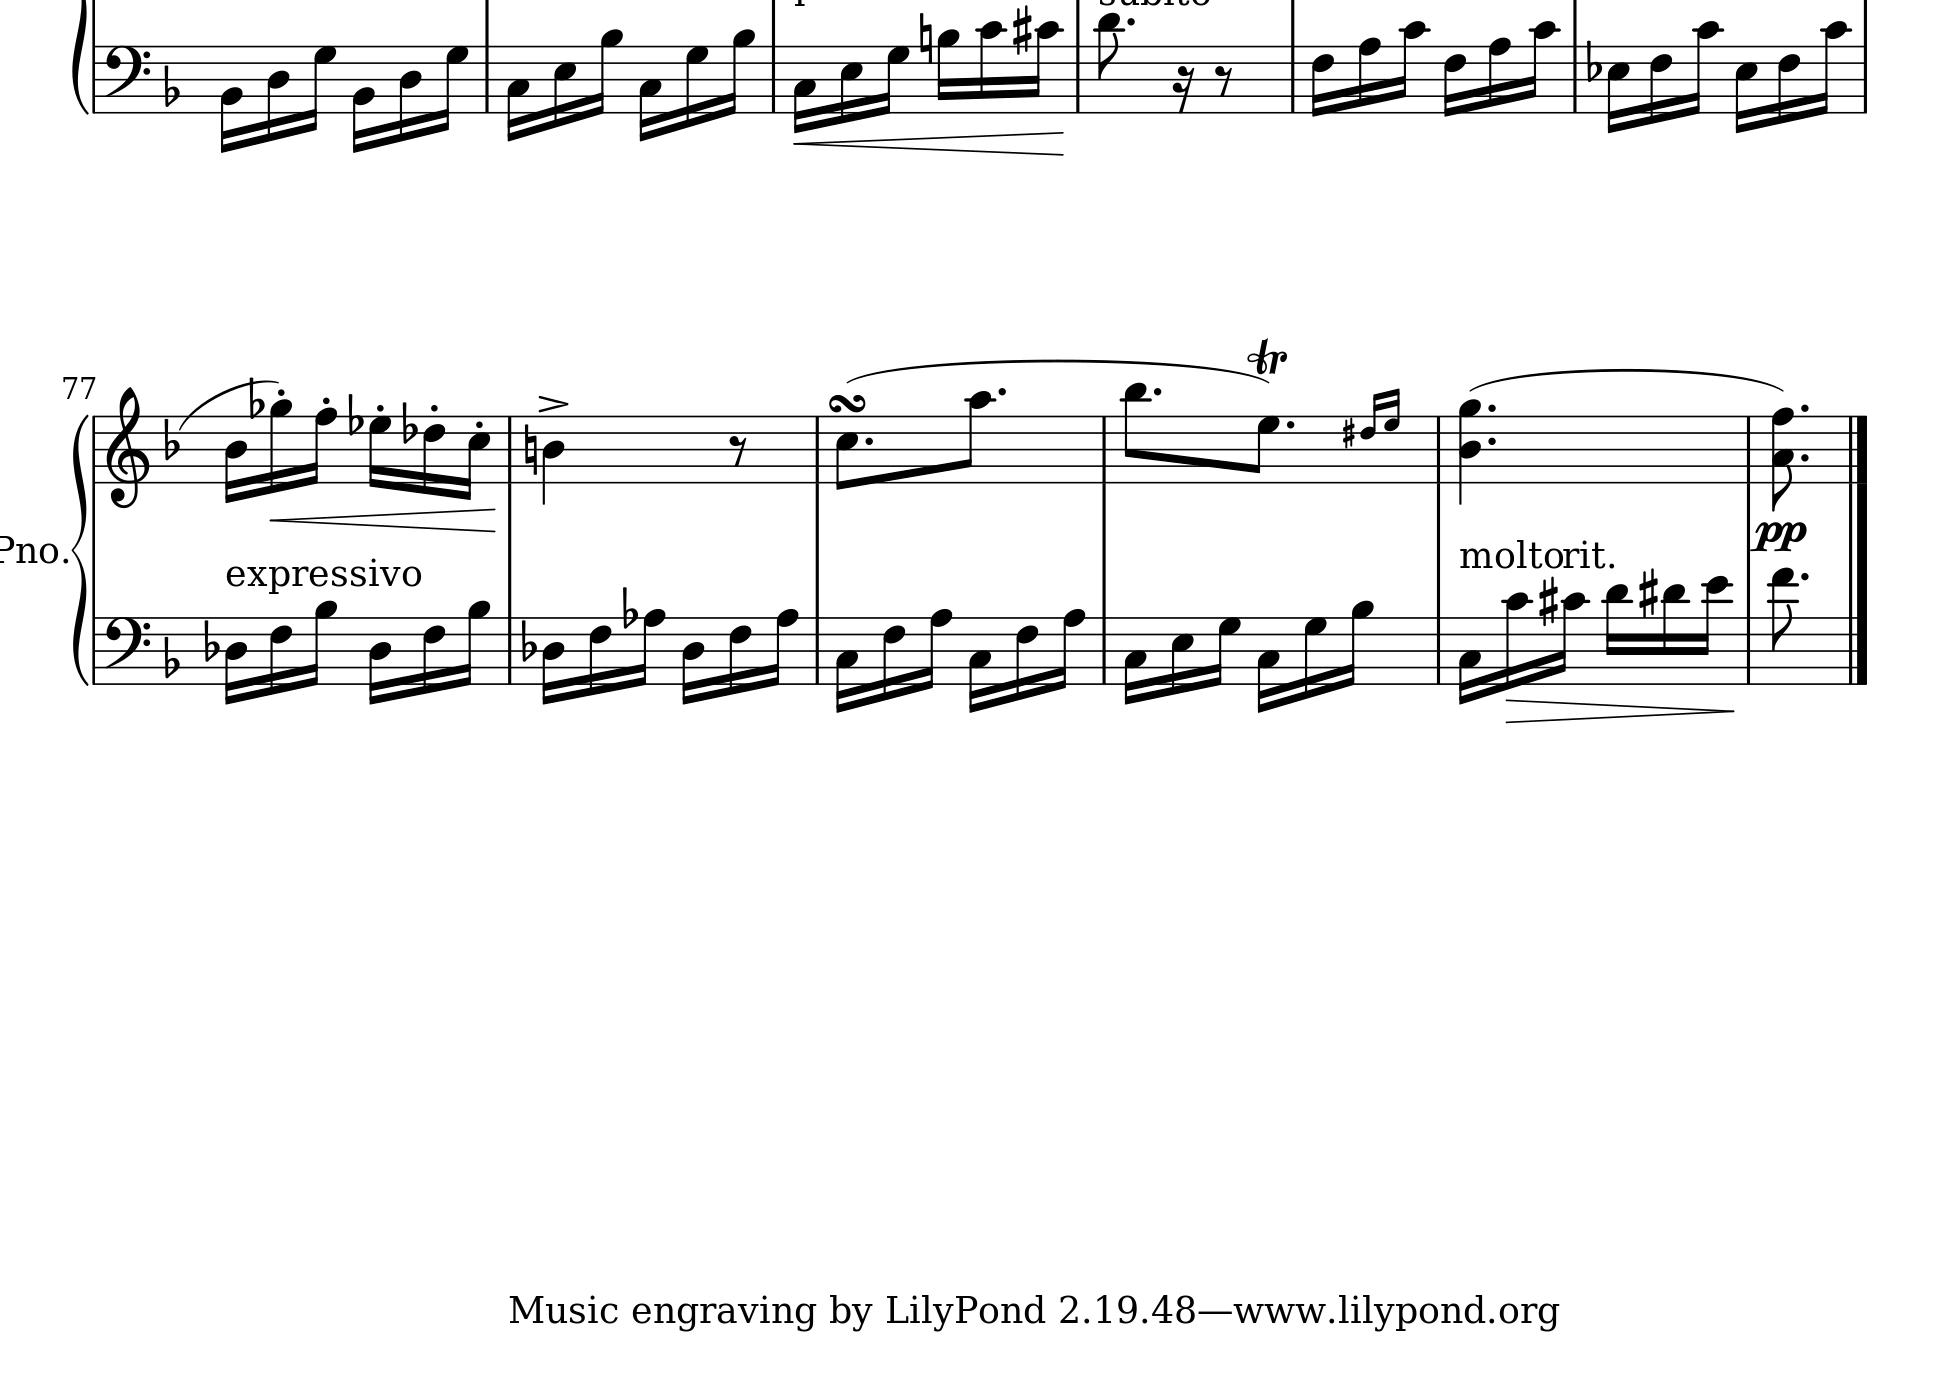16_10: (1687, 19, 1722, 117), (1027, 19, 1062, 115), (1816, 19, 1849, 117), (1554, 589, 1587, 687), (1395, 19, 1428, 115), (1525, 19, 1557, 115), (1503, 589, 1530, 691), (976, 19, 1005, 115)
16_11: (1602, 582, 1630, 687), (1660, 580, 1687, 687)
16_12: (1695, 574, 1732, 685)
16_2: (217, 43, 244, 154), (349, 43, 376, 153)
16_3: (967, 613, 993, 715), (1255, 613, 1281, 714), (834, 613, 859, 712), (505, 43, 529, 142), (637, 43, 661, 142), (1122, 615, 1147, 706), (1456, 615, 1482, 706), (792, 43, 816, 133)
16_4: (396, 43, 423, 142), (264, 43, 289, 142), (366, 613, 391, 706), (540, 613, 565, 705), (679, 613, 705, 705), (223, 412, 247, 504), (223, 615, 247, 706)
16_5: (457, 414, 490, 502), (1605, 43, 1630, 133), (550, 43, 577, 127), (1734, 42, 1758, 135), (1168, 613, 1194, 696), (838, 43, 862, 124)
16_6: (880, 613, 906, 700), (1014, 613, 1039, 700), (1648, 42, 1674, 124), (1776, 42, 1801, 124), (586, 615, 612, 697), (421, 412, 445, 496), (268, 613, 292, 696), (421, 613, 445, 694), (727, 613, 751, 694), (1311, 43, 1335, 118), (1443, 43, 1467, 118)
16_7: (303, 43, 337, 133), (435, 43, 469, 133), (877, 43, 910, 117), (1209, 615, 1242, 687), (682, 40, 708, 129), (1302, 613, 1327, 700), (367, 412, 391, 490)
16_8: (919, 607, 952, 691), (1053, 607, 1086, 691), (304, 406, 337, 487), (633, 607, 666, 688), (765, 607, 798, 687), (1486, 34, 1512, 115), (1356, 36, 1381, 115)
16_9: (304, 598, 337, 688), (591, 27, 622, 117), (723, 27, 754, 117), (457, 598, 489, 688), (1342, 598, 1372, 688), (267, 397, 292, 493), (934, 27, 960, 115)
4_4: (540, 414, 565, 505)
7: (79, 372, 97, 400), (61, 372, 78, 400)
8_10: (958, 388, 993, 486)
8_11: (1095, 10, 1125, 115), (1122, 381, 1149, 484)
8_13: (1767, 565, 1800, 687)
8_5: (834, 415, 859, 490)
8_7: (1248, 412, 1281, 484)
Accent_above: (535, 393, 570, 412)
Appoggiature_2: (1360, 385, 1404, 484)
Brace: (70, 409, 90, 685)
Crescendo_hairpin: (796, 127, 1068, 156), (271, 505, 496, 534)
Diminuendo_hairpin: (1507, 697, 1734, 723)
Fclef: (100, 613, 150, 685), (100, 43, 150, 114)
Final_barline: (1845, 414, 1872, 481), (1842, 616, 1869, 682)
Flat: (162, 633, 181, 679), (162, 61, 181, 106), (162, 415, 181, 460), (519, 616, 537, 664), (619, 583, 637, 631), (201, 616, 219, 663), (1584, 39, 1602, 84), (346, 391, 363, 436), (400, 400, 417, 445), (247, 376, 264, 420)
Gclef: (103, 385, 150, 510)
Natural: (916, 12, 934, 67), (523, 423, 538, 475)
Pno: (1, 531, 60, 567)
Rests16: (1171, 64, 1197, 115)
Rests8: (1212, 61, 1233, 96), (727, 433, 748, 466)
Sharp: (1537, 574, 1560, 628), (1638, 565, 1659, 619), (1011, 4, 1032, 57), (1341, 415, 1356, 451)
Single_barline: (478, 45, 496, 112), (501, 415, 519, 483), (1284, 46, 1302, 112), (808, 415, 826, 481), (1095, 415, 1113, 481), (808, 616, 826, 682), (1096, 616, 1113, 682), (766, 45, 781, 111), (1071, 46, 1086, 112), (1741, 415, 1756, 481), (502, 616, 517, 682), (1431, 616, 1446, 682), (1740, 616, 1755, 682), (1431, 417, 1446, 481), (1569, 45, 1582, 112), (88, 46, 102, 112), (1858, 46, 1872, 112), (88, 415, 102, 481), (88, 616, 102, 682)
Slur: (840, 355, 1272, 385), (1465, 366, 1779, 394), (172, 376, 283, 427)
Trill: (1248, 334, 1287, 373)
Turn: (826, 391, 868, 414)
dot: (1485, 433, 1500, 448), (1150, 384, 1164, 399), (1485, 400, 1498, 415), (1798, 400, 1812, 415), (862, 433, 876, 448), (1798, 450, 1812, 463), (996, 384, 1008, 399), (1284, 417, 1296, 430), (1125, 16, 1137, 28), (1798, 570, 1809, 582)
mp: (1752, 517, 1807, 553)
